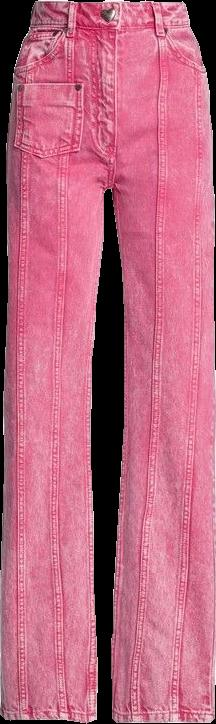Hemline: (0, 709, 101, 723), (112, 713, 215, 723)
Pantleg: (0, 1, 118, 721), (111, 1, 215, 721)
Waistline: (30, 19, 188, 32), (31, 0, 186, 10)
